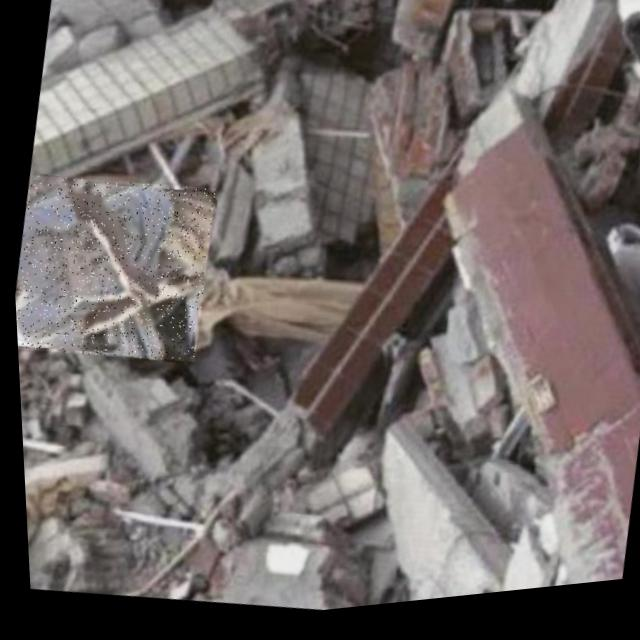Person in Rubble: (7, 158, 219, 378)
